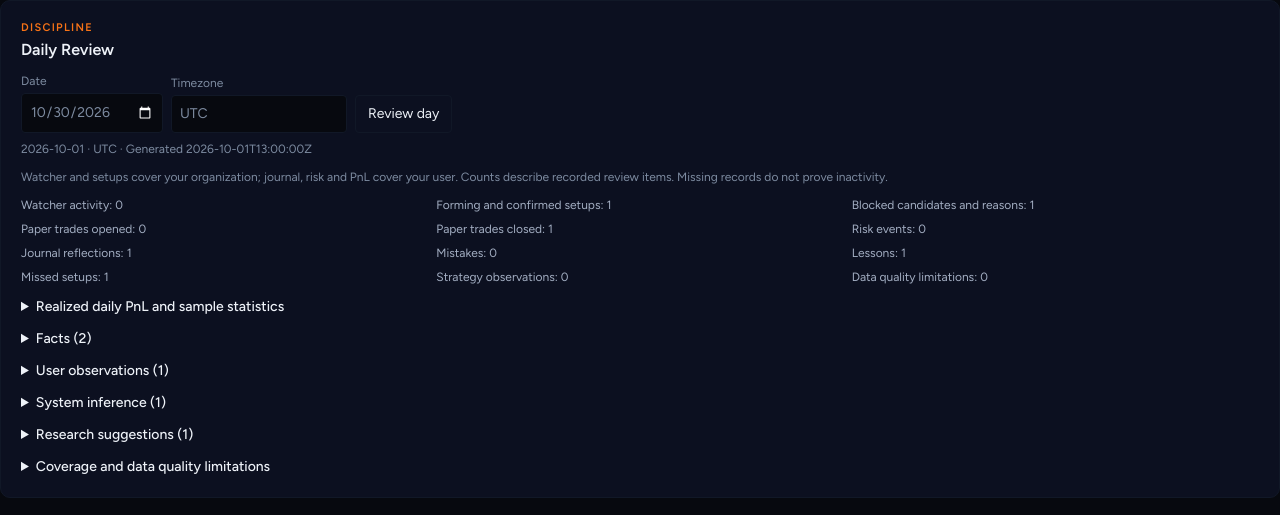
it: Daily Review › hides previous review metrics while a refresh is loading
Expected: the element with test id "daily-review-content" is shown, x1=21 y1=142 x2=1035 y2=475
Click the button "Review day": x=404, y=114 x1=355 y1=95 x2=452 y2=133
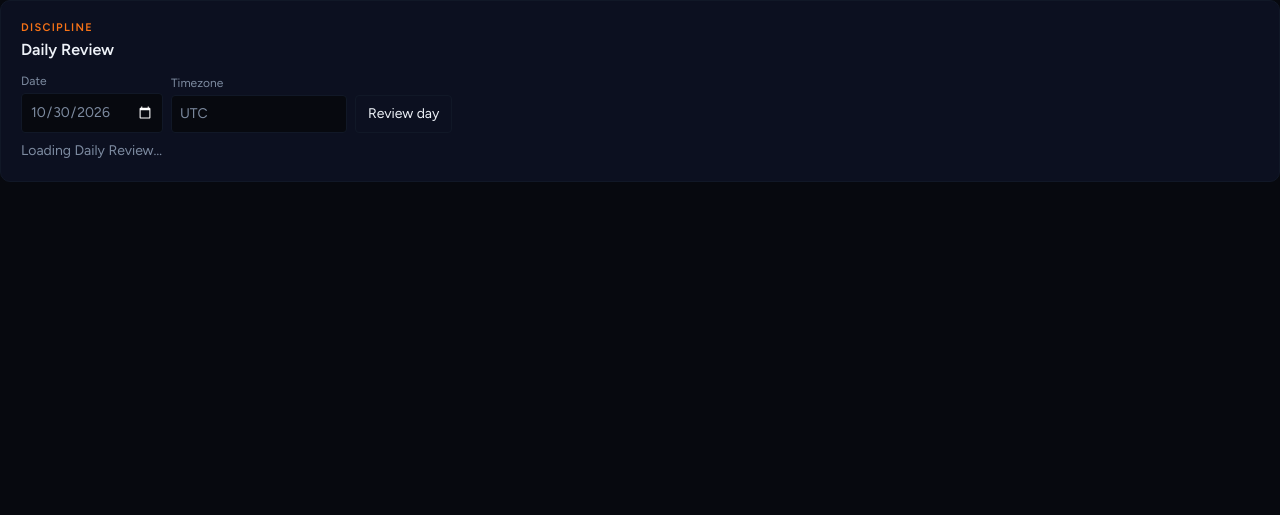
Now the message shows "Loading Daily Review", box x1=21 y1=142 x2=162 y2=159
Now the element with test id "daily-review-content" is gone
